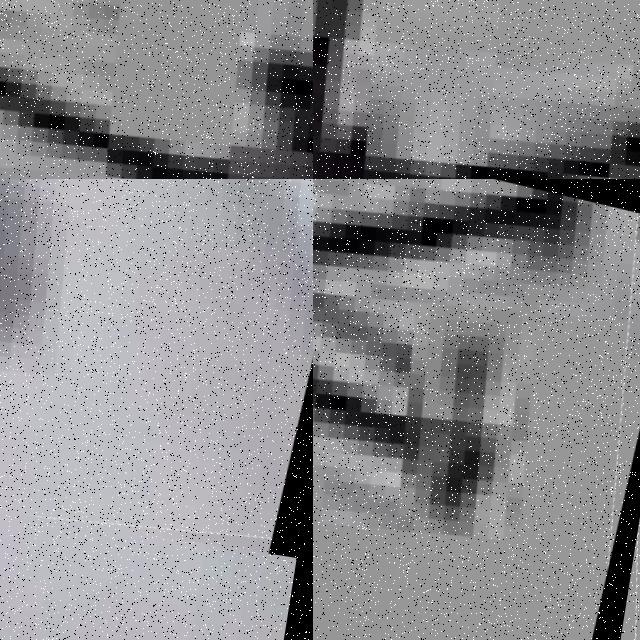0: (313, 179, 640, 640), (313, 0, 640, 179), (0, 0, 313, 179)
drone: (0, 179, 313, 558)
